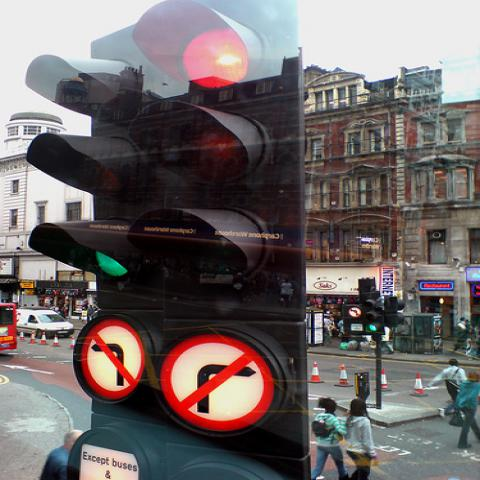bus: (0, 304, 18, 350)
truck: (15, 310, 76, 338)
